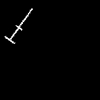double_crochet: (5, 9, 31, 43)
